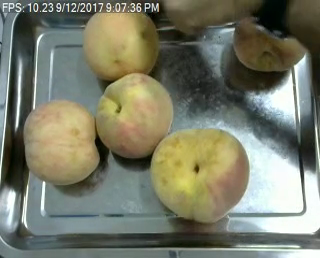Peach: (152, 125, 249, 223), (21, 98, 97, 191), (98, 72, 172, 159), (81, 4, 157, 82), (234, 19, 306, 71)
